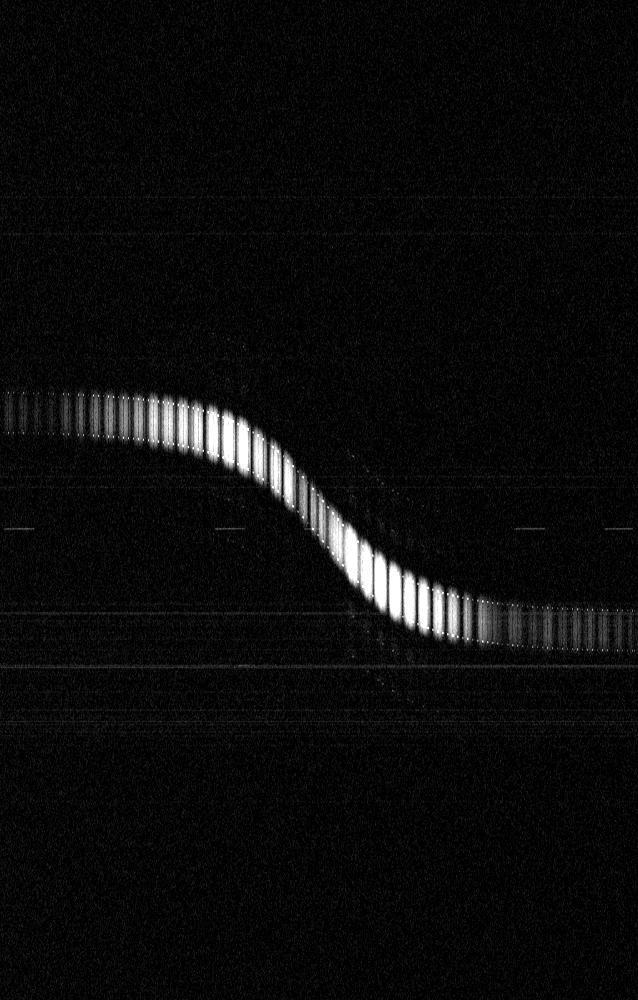signal: (0, 0, 637, 999)
